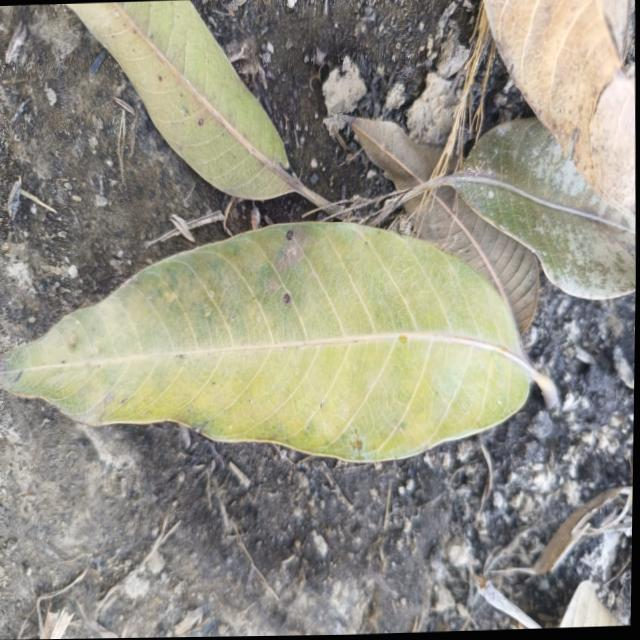black die: (280, 286, 292, 307), (283, 227, 293, 240)
